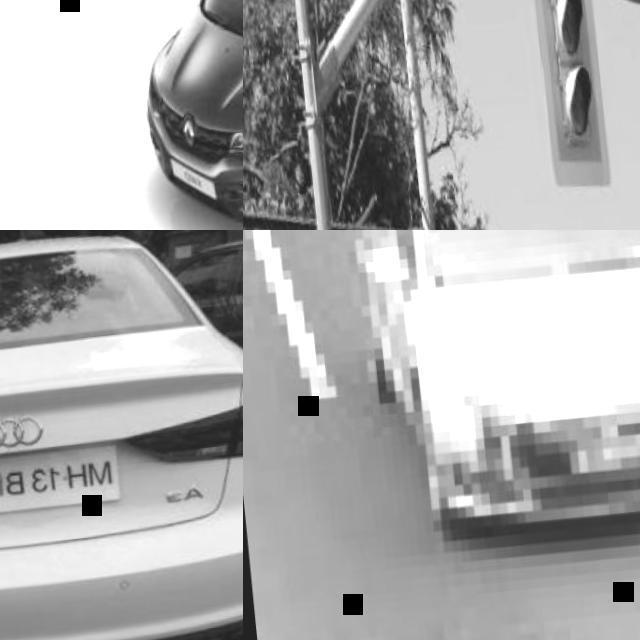car: (355, 6, 639, 570), (146, 0, 271, 216)
